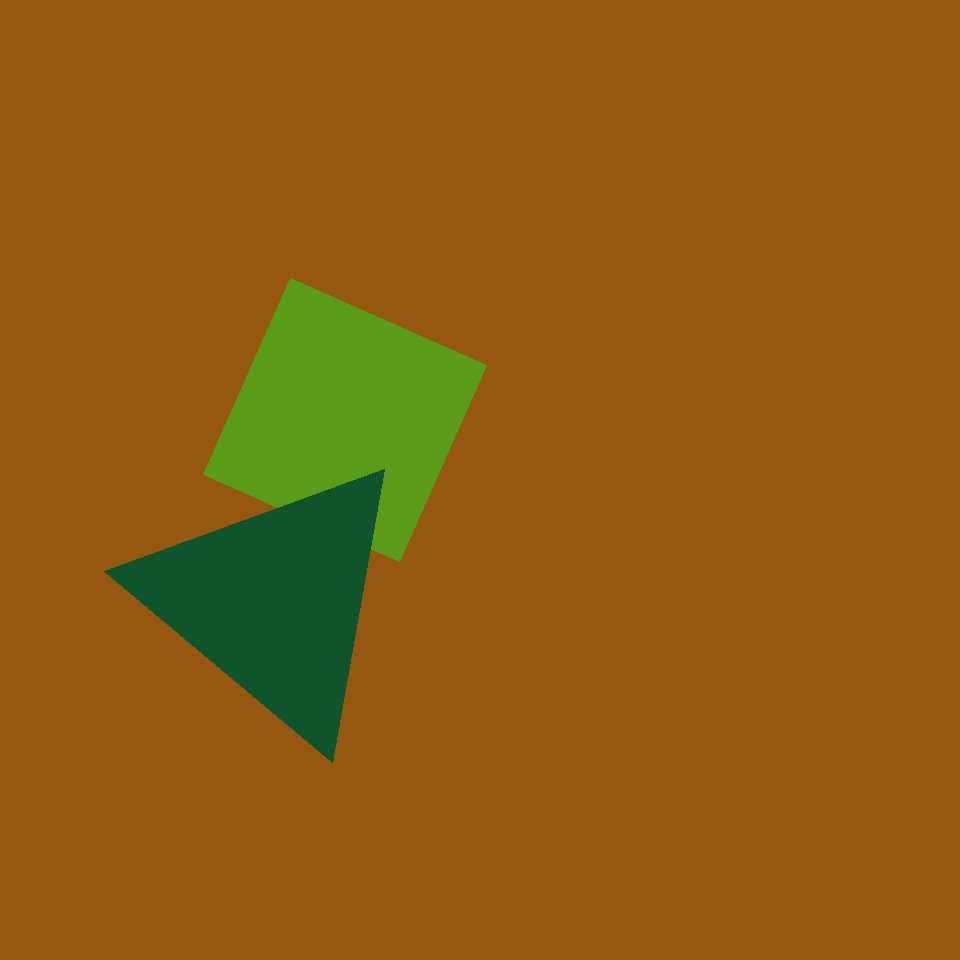circle: (545, 537, 837, 857), (134, 455, 414, 748), (212, 509, 318, 605)
square: (204, 278, 487, 562), (185, 736, 329, 880)
triangle: (498, 135, 819, 456), (80, 554, 385, 859)
